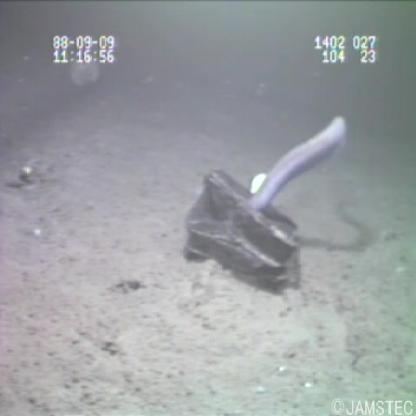Bio: (244, 109, 352, 217)
Rác: (177, 164, 307, 292)
